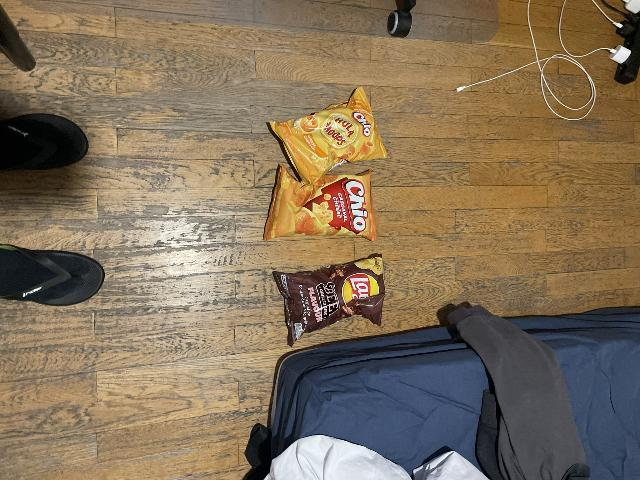Chio Cascaval 125g: (263, 165, 374, 242)
Chio Hula Hoops Cheese 70g: (266, 89, 384, 185)
Lays Beef Grilled Ribs 125g: (269, 256, 384, 341)
